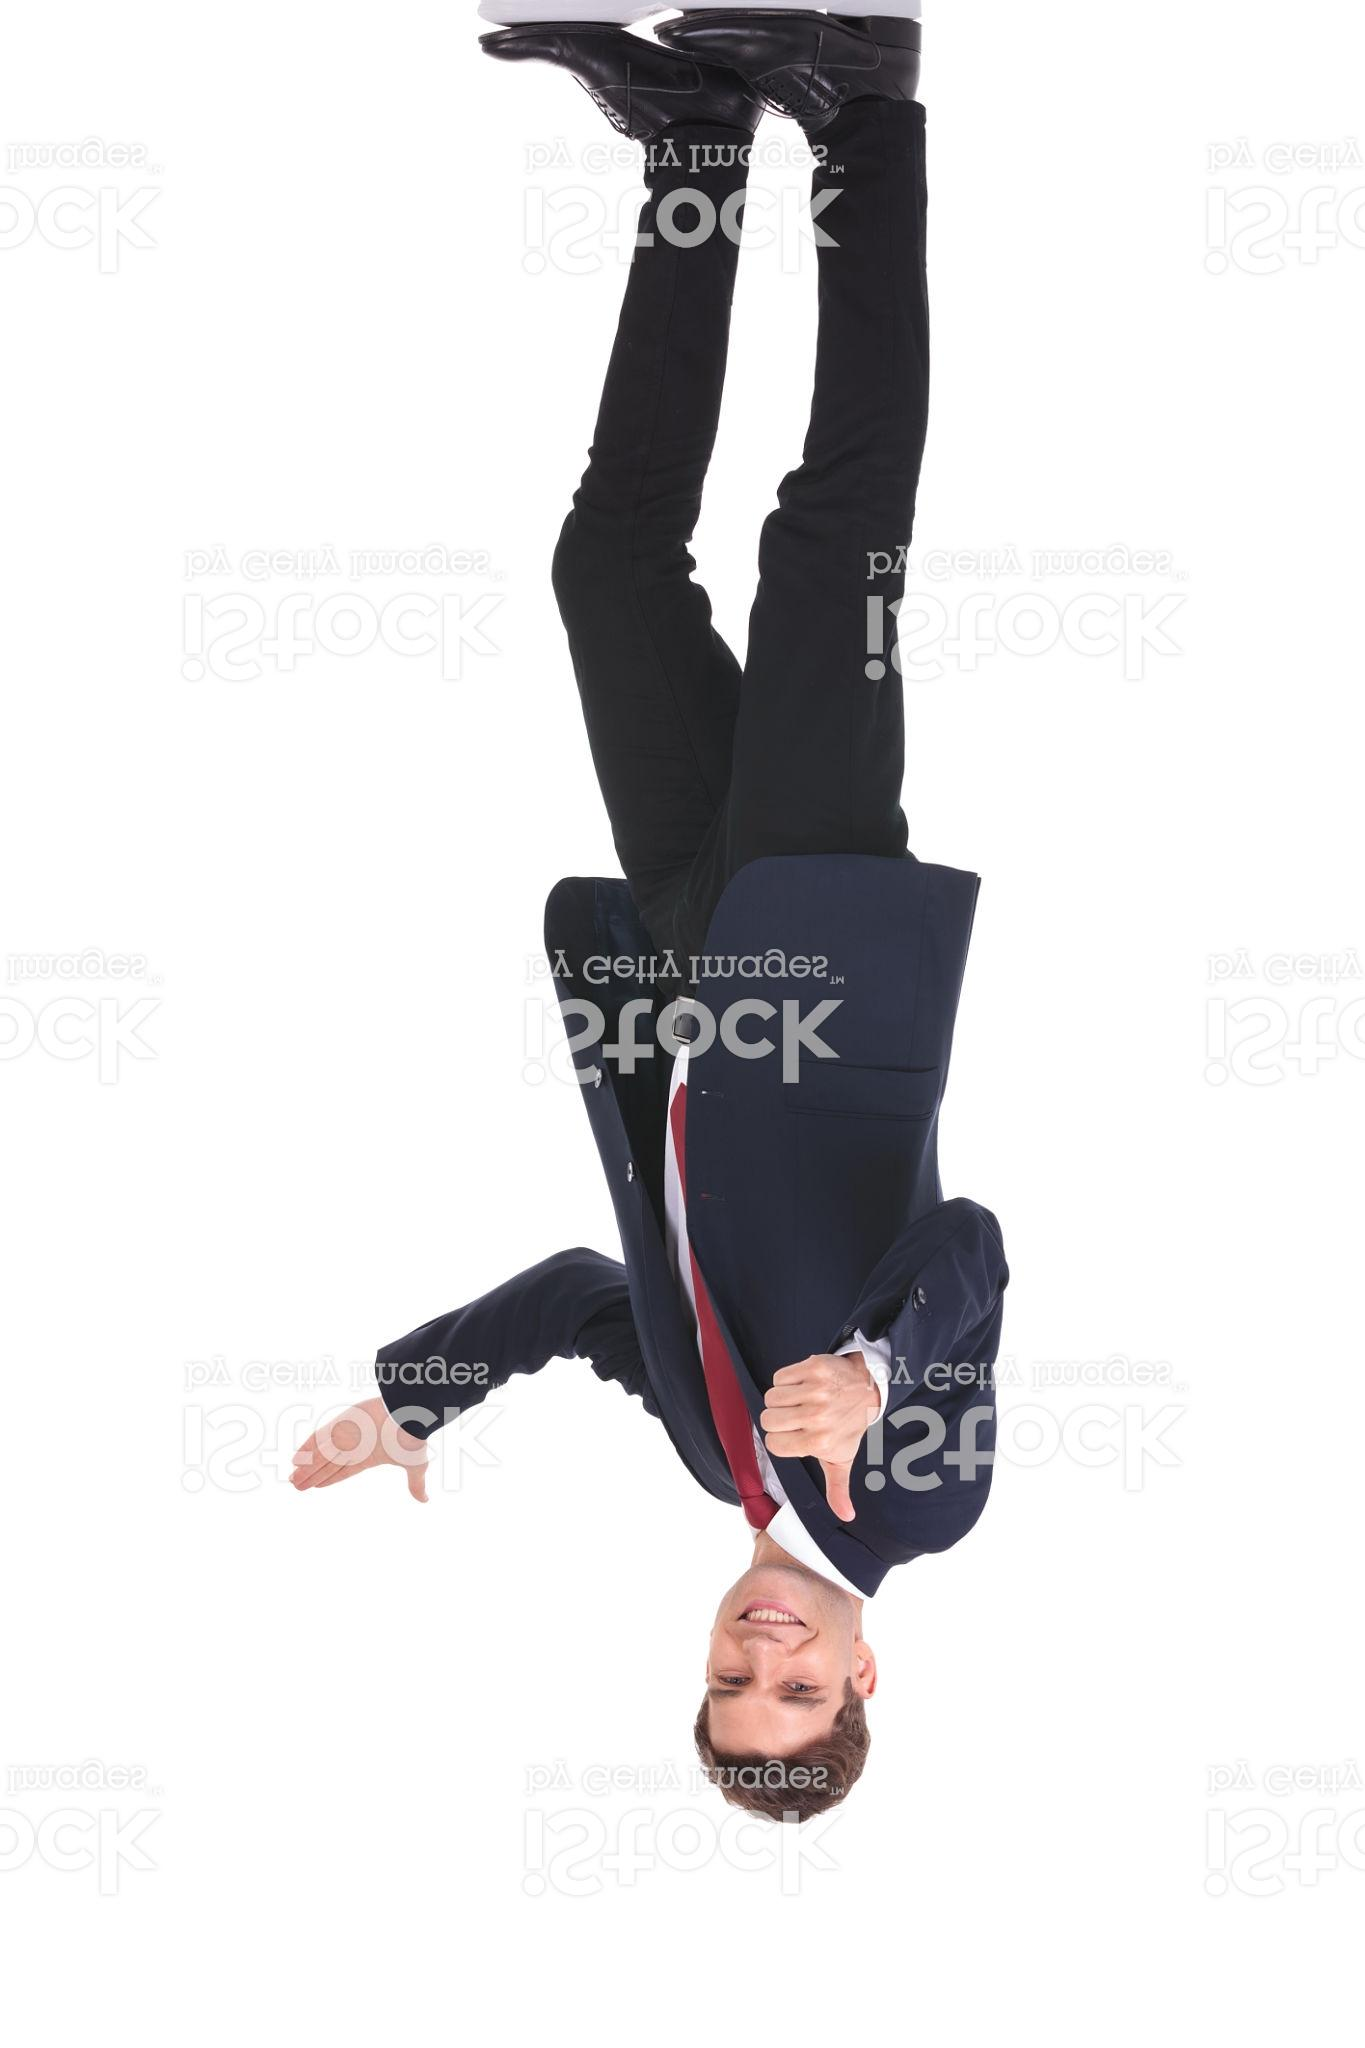thumbsdown: (759, 1354, 861, 1526)
